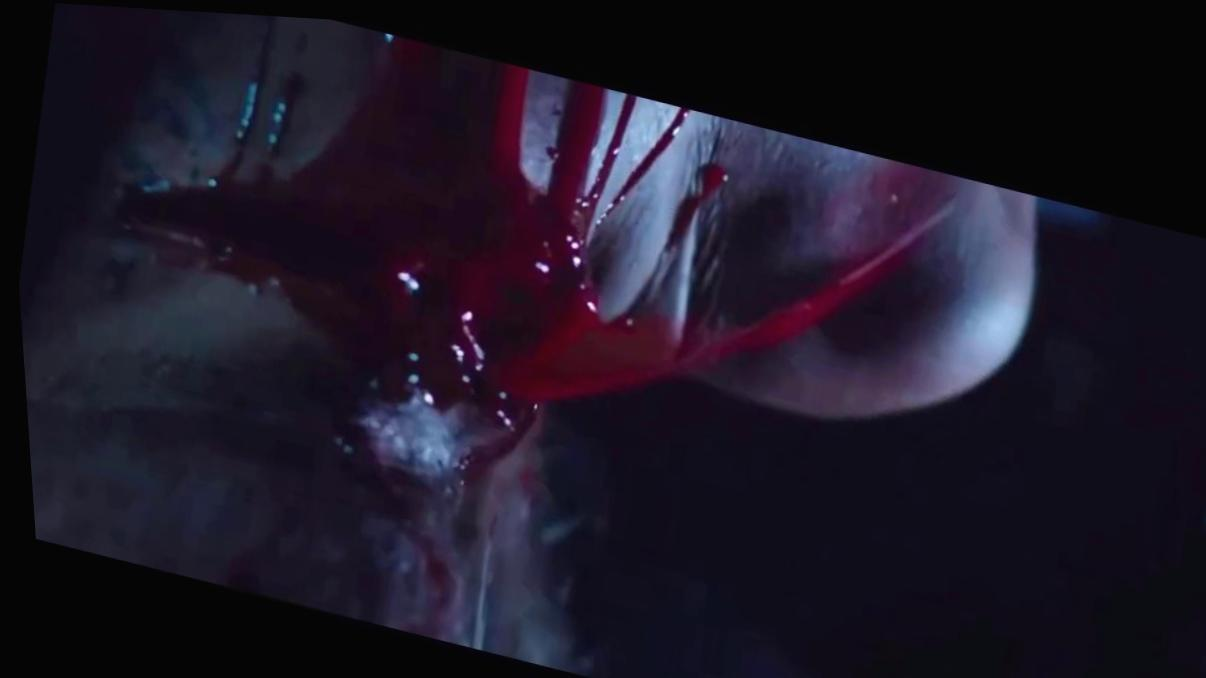Fire: (213, 31, 923, 458), (594, 99, 689, 215), (580, 85, 635, 223), (233, 12, 274, 166), (661, 150, 726, 246)
